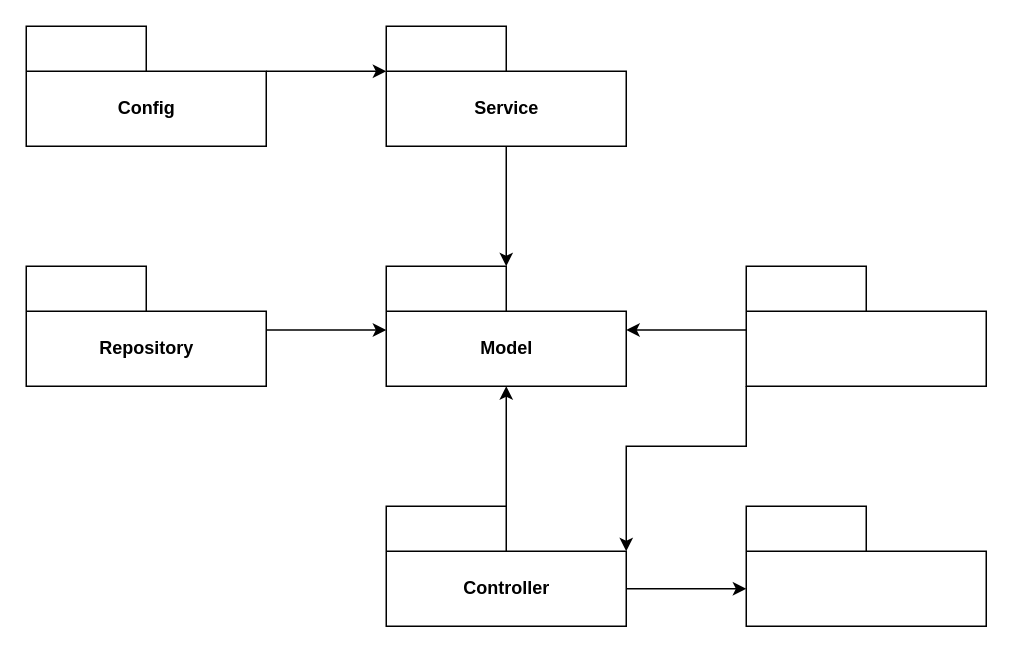
Image size: 1013x653. Some labels were removed from this diagram. The centre of each missing label's shape, as x and y in pixels:
DAO: [865,325]
View: [865,565]
